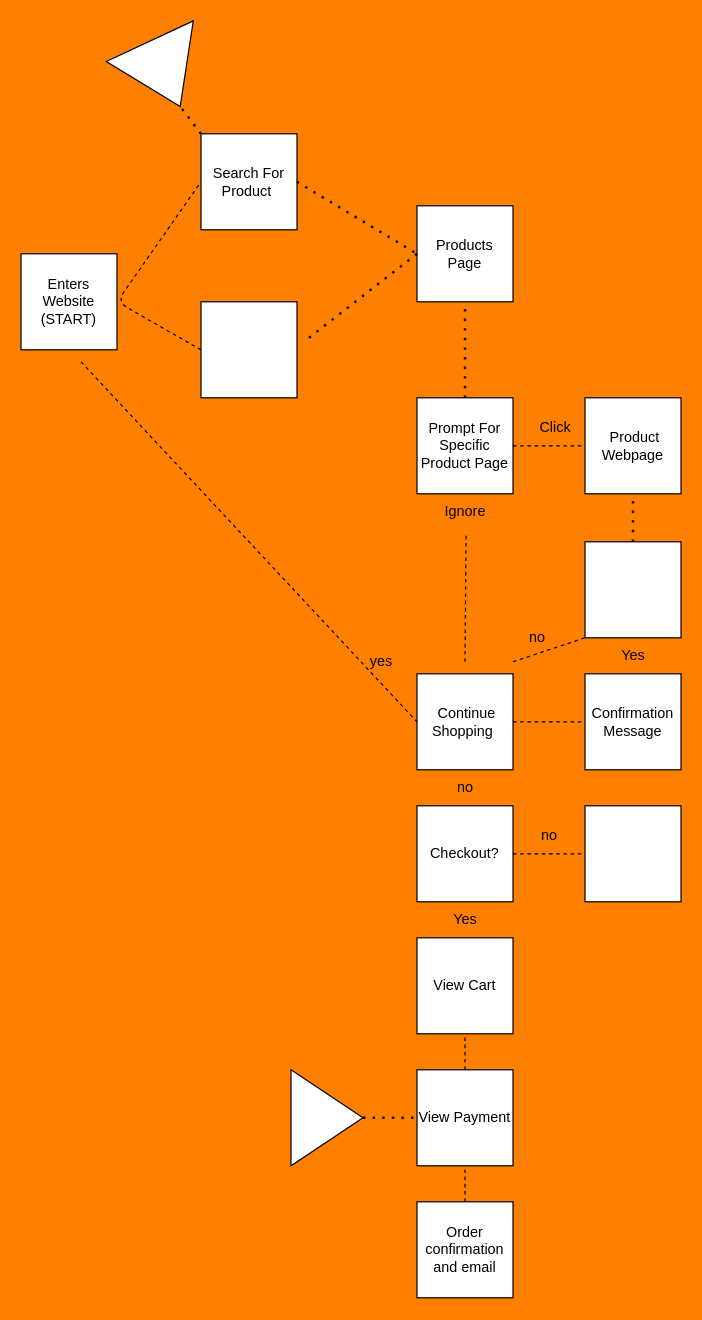
Some shapes in this 702 by 1320 pixel diagram are drawn without their labels. The centre of each missing label's shape, as x and y in pixels:
"Add to cart?" goes at (x=632, y=589).
"Explore Products" goes at (x=248, y=349).
"Leave Website" goes at (x=632, y=853).
"Payment" goes at (x=326, y=1117).
"Search Query" goes at (x=164, y=73).
